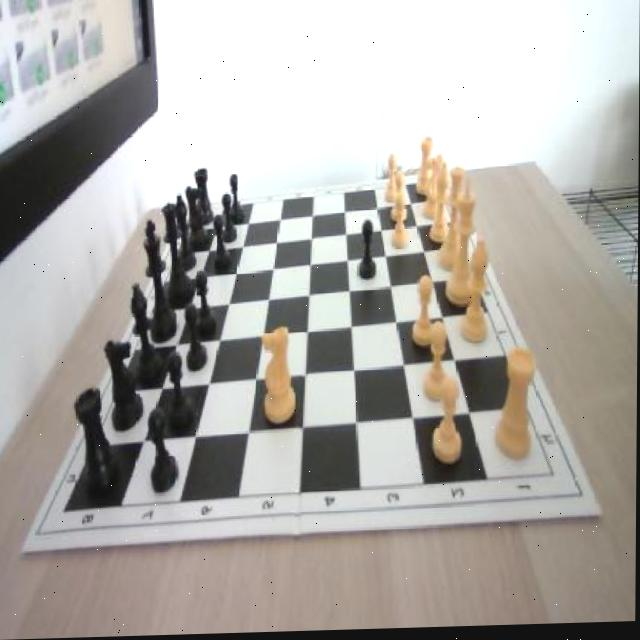bishop: (130, 282, 163, 382), (174, 192, 196, 270)
black-bishop: (143, 219, 180, 343)
black-king: (104, 340, 146, 432), (184, 184, 210, 249)
black-knight: (149, 407, 179, 495), (169, 349, 195, 435), (195, 269, 218, 339), (186, 304, 207, 372), (358, 220, 379, 282), (214, 218, 231, 274), (229, 176, 245, 228), (221, 194, 237, 243)
black-pawn: (161, 203, 193, 305)
black-queen: (76, 388, 119, 503), (195, 169, 214, 226)
black-rook: (462, 241, 493, 346), (429, 165, 451, 244)
white-bishop: (447, 177, 479, 307)
white-king: (261, 324, 298, 427), (423, 156, 447, 225), (416, 139, 434, 199)
white-knight: (432, 380, 465, 470), (419, 325, 449, 408), (412, 276, 438, 348), (390, 195, 409, 251), (392, 172, 407, 225), (386, 154, 399, 204)
white-pawn: (437, 171, 465, 276)
white-queen: (496, 350, 538, 464)
